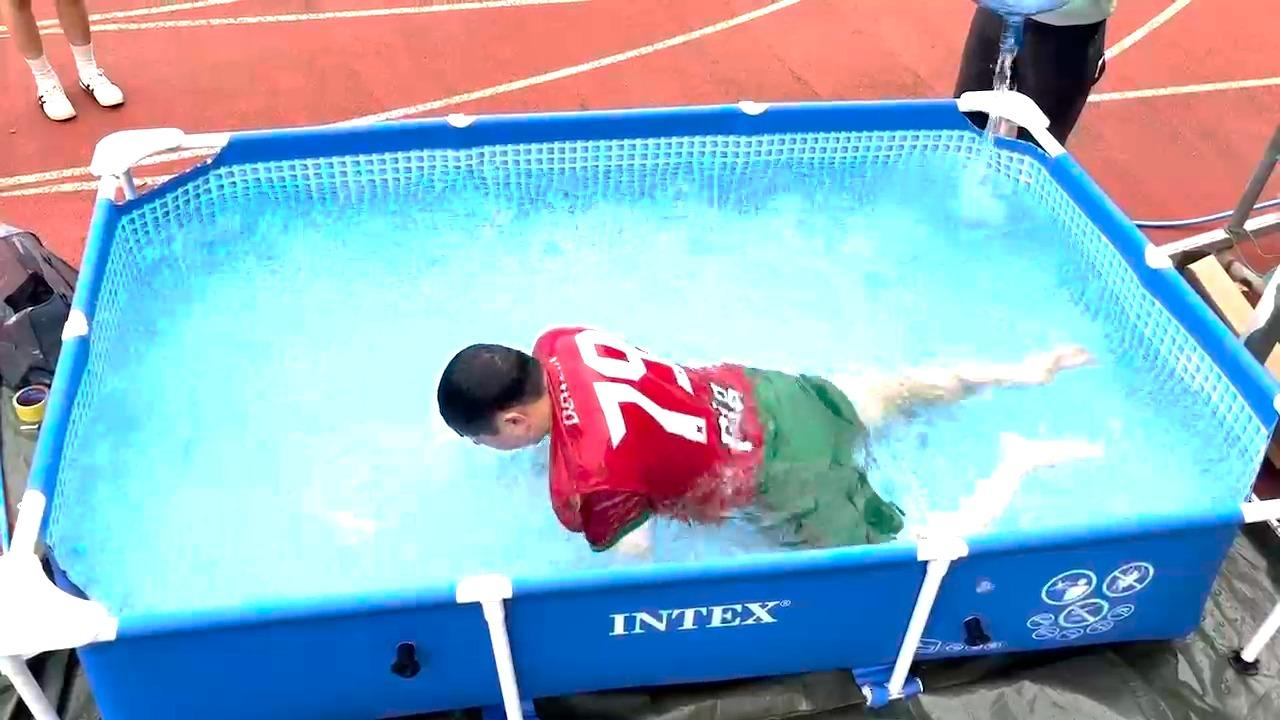Drowning: (328, 239, 1103, 582)
